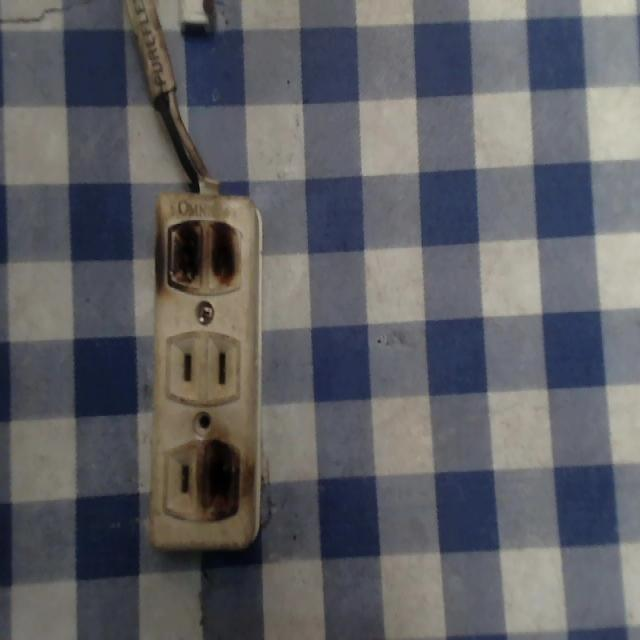-: (147, 200, 247, 303)
